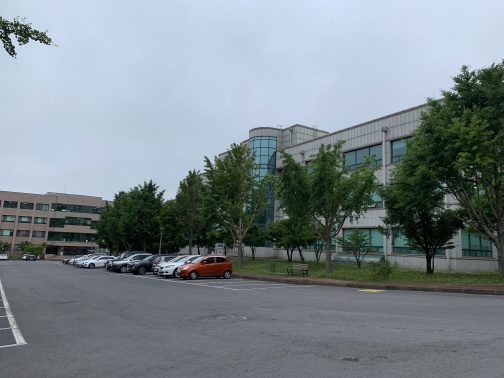Joint Experimental Labs: (2, 187, 110, 261)
Second Library: (234, 114, 498, 272)
